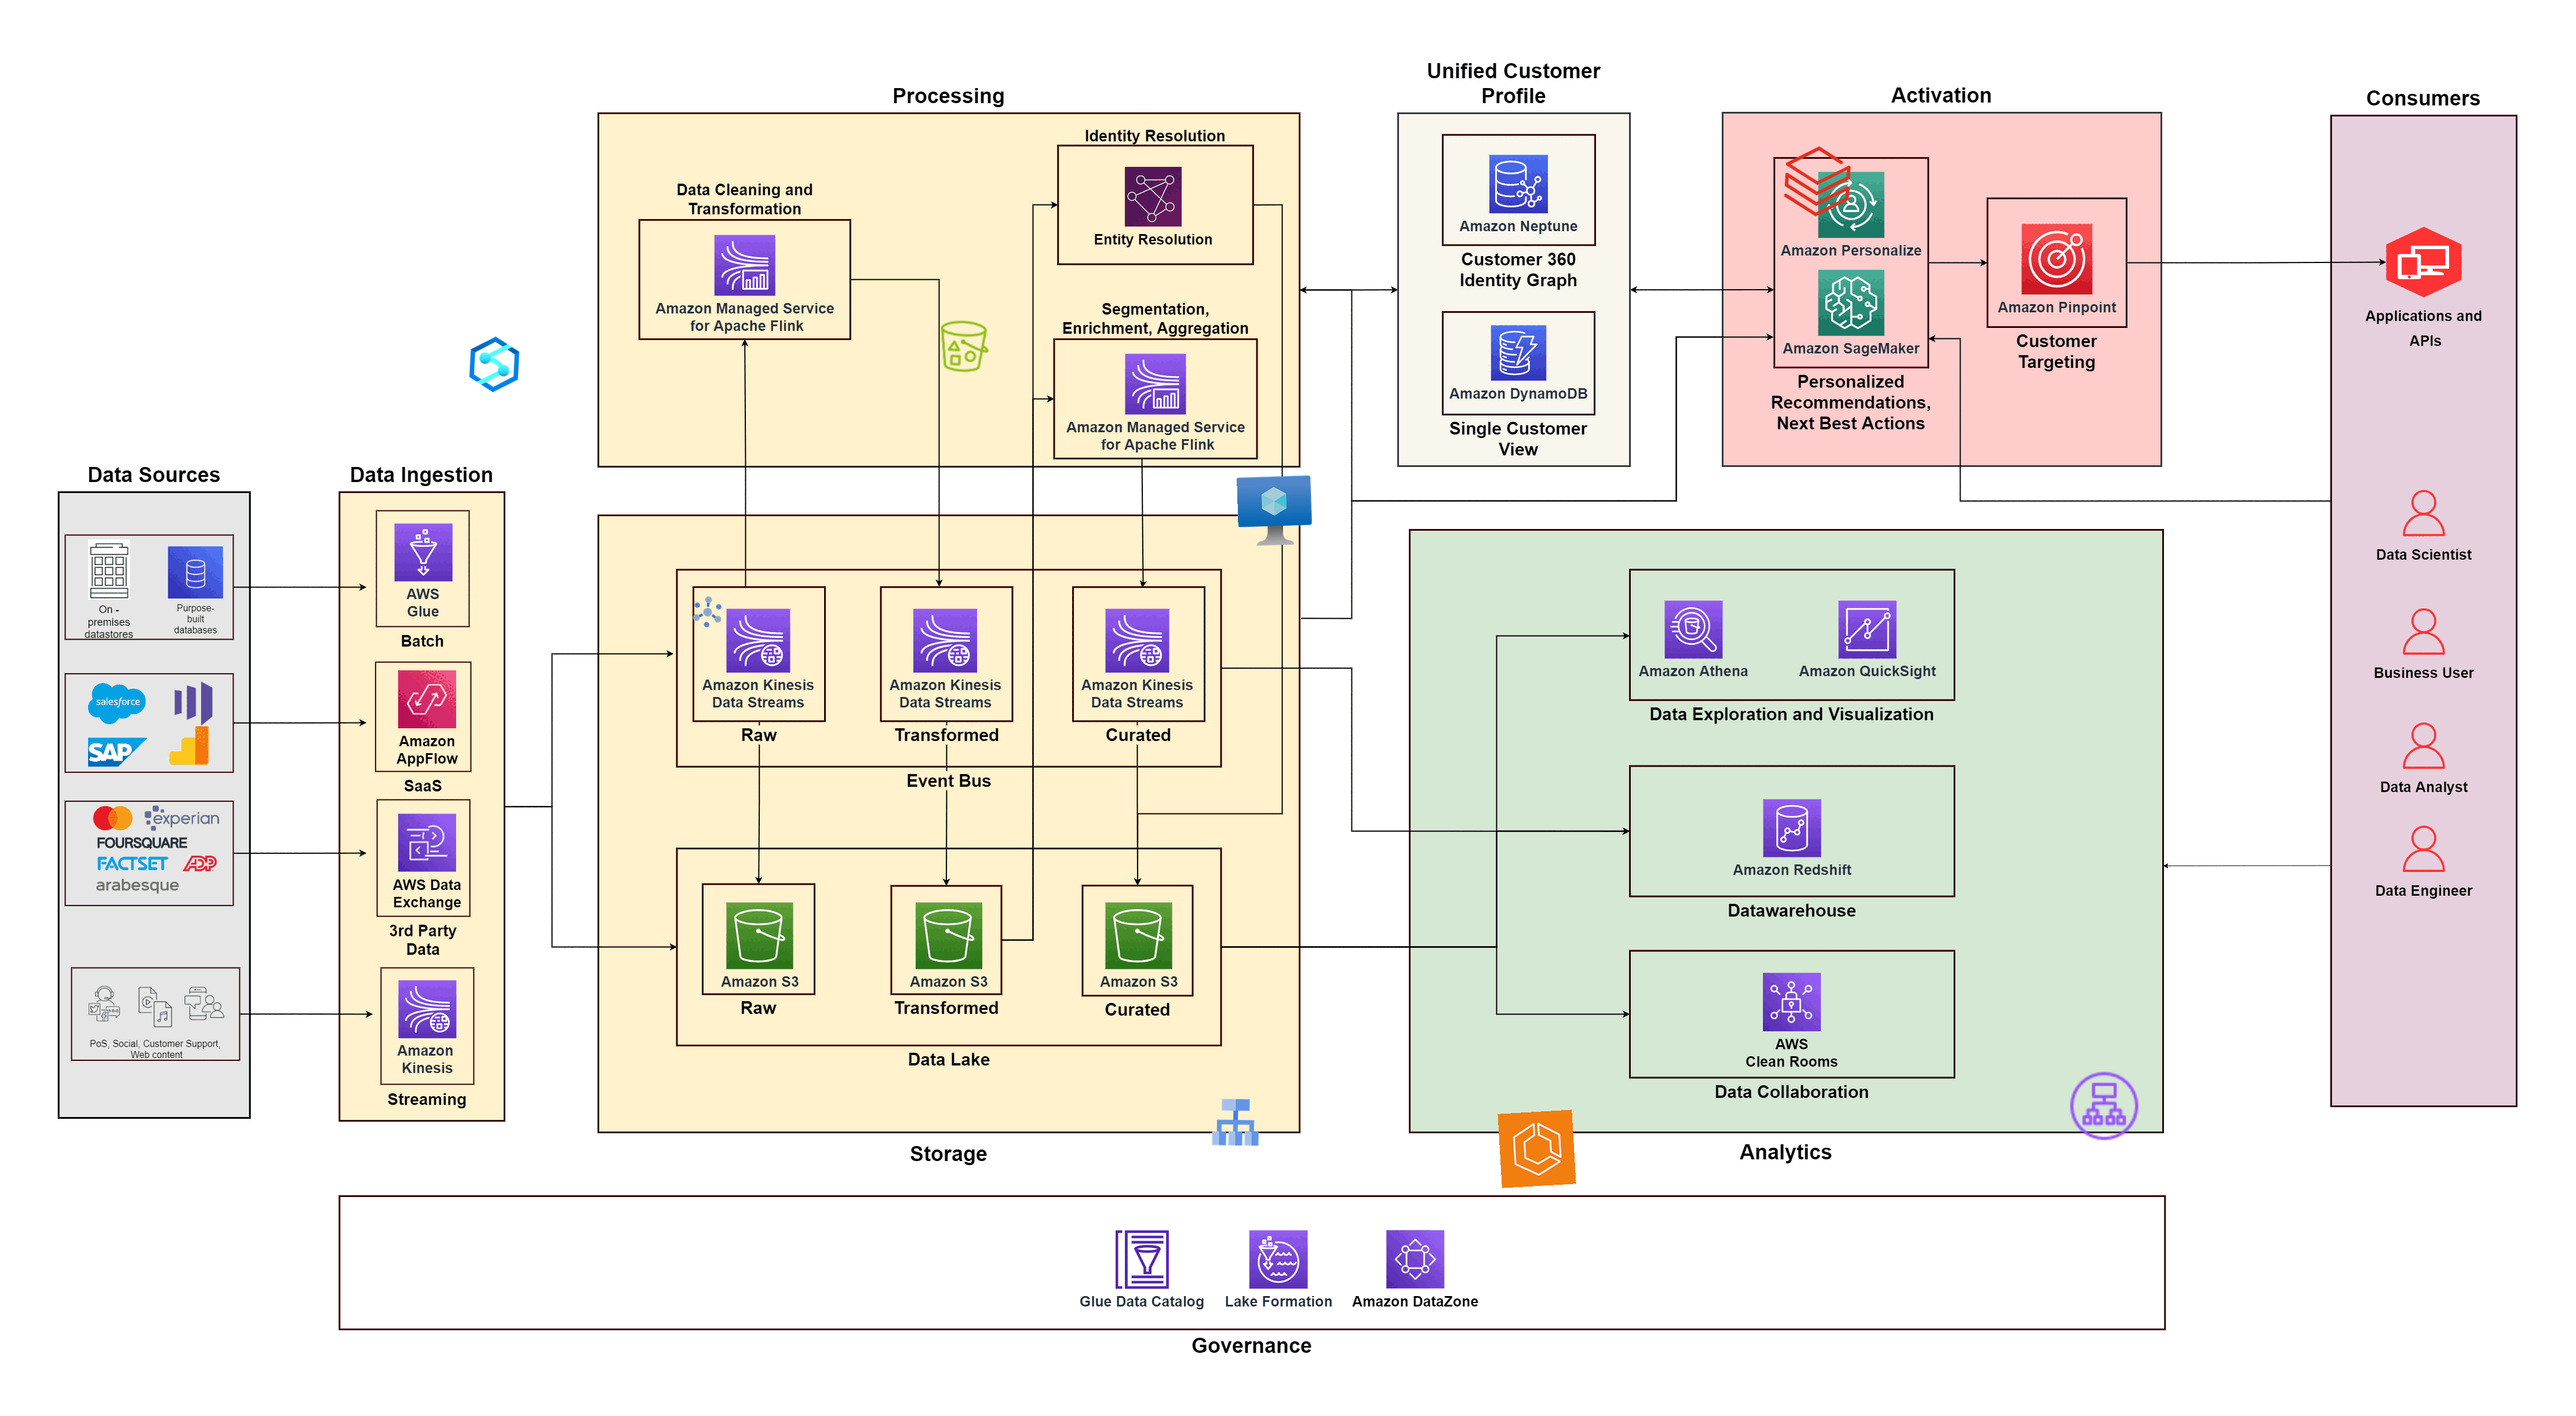aws_amazon_elastic_container_service: (1498, 1109, 1577, 1188)
aws_elastic_load_balancing_application_load_balancer: (2067, 1069, 2142, 1144)
aws_simple_storage_service_bucket_with_objects: (935, 317, 994, 377)
azure_databricks: (1777, 141, 1857, 221)
azure_synapse_analytics: (464, 335, 523, 394)
azure_virtual_machine: (1237, 474, 1313, 551)
gcp_cloud_load_balancing: (1207, 1093, 1264, 1151)
gcp_pubsub: (687, 591, 727, 631)
